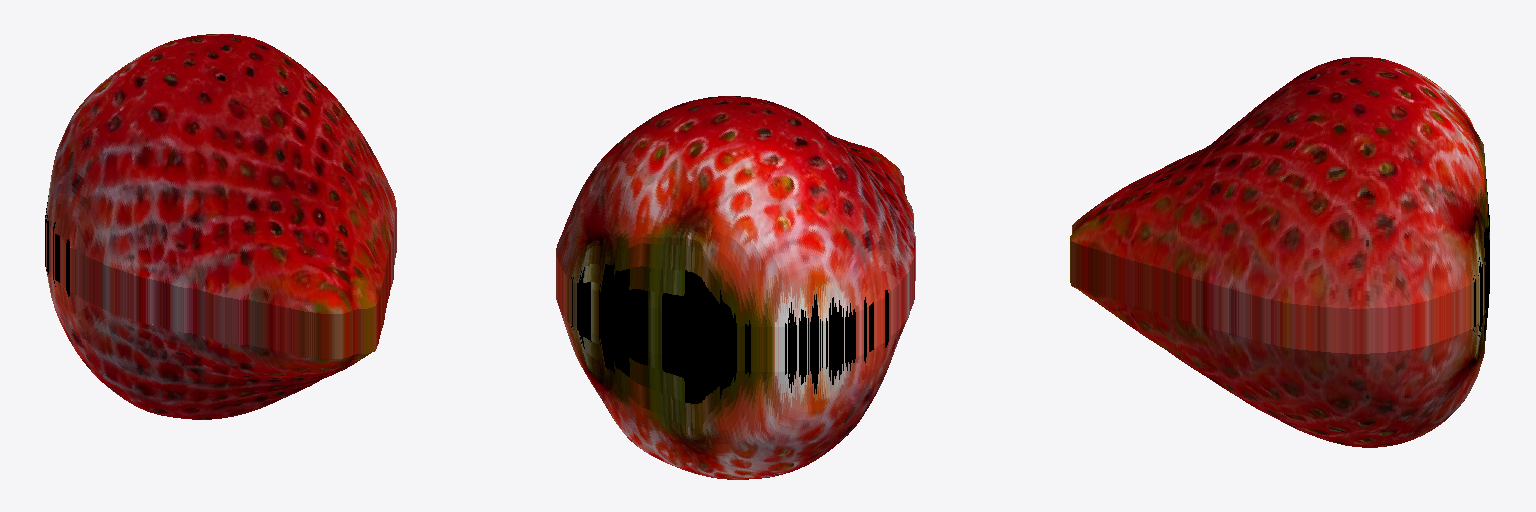
3 views of the same model, side by side, from view 1: azimuth 30°, elevation 25°; view 2: azimuth 150°, elevation 25°; view 3: azimuth 270°, elevation 25° (orthographic).
Visible parts, largest first — view 1: Grid; view 2: Grid; view 3: Grid.
Part boxes in pixels (bbox=[...]): Grid: bbox=[45, 34, 396, 419]; Grid: bbox=[556, 96, 915, 479]; Grid: bbox=[1070, 57, 1489, 447].
Size of the model in its own units: 1.44 by 1.6 by 1.7.
Materials: 1 (1 with a texture image).